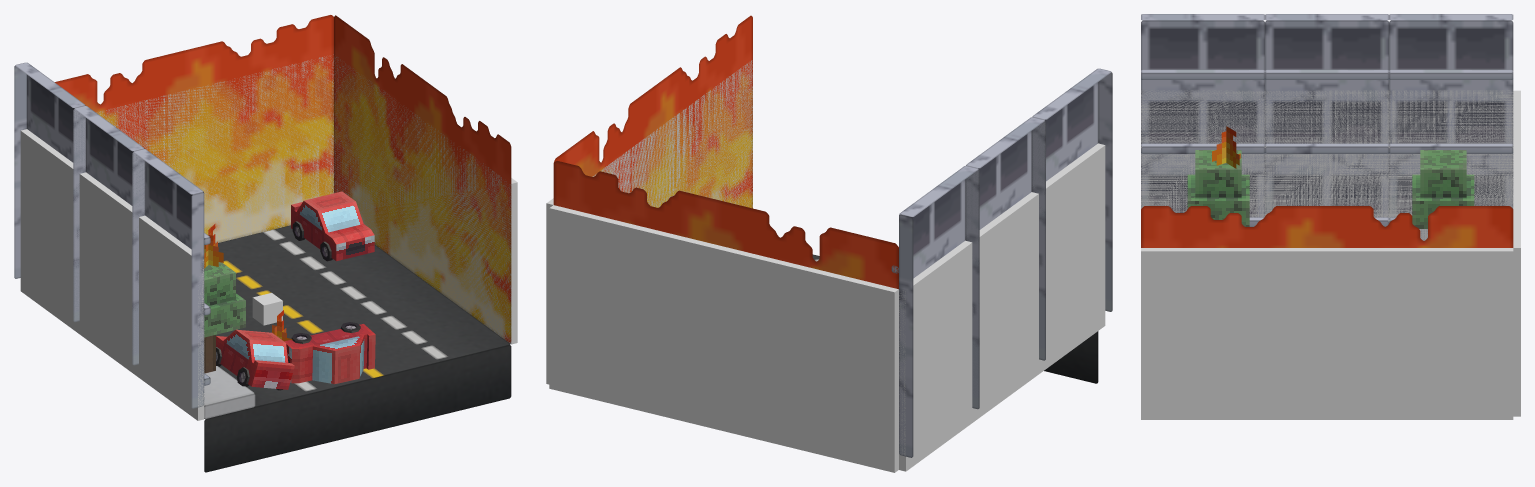
Rendered from cornertr.fbx.
3 renders of one model, left to right at view 1: azimuth 30°, elevation 25°; view 2: azimuth 150°, elevation 25°; view 3: azimuth 270°, elevation 25°, orthographic. The views are drawn at different scales.
Visible parts, largest first — view 1: floormain, cube_4, cube_3, cube_6, cube_7, cube_8, building_3, building, building_2, carmain_1, carmain_2, carmain (+2 smaller); view 2: cube_8, cube_6, cube_3, cube_4, cube_7, building, building_3, building_2, floormain; view 3: cube_7, cube_6, building_2, building, building_3, cube_3, tree, tree_1, builing-ledges_1, cube_8, builing-ledges, builing-ledges_2 (+1 smaller).
Boxes of the visible parts, box(x1,y1,x2,y2) form: floormain: box(204, 225, 511, 472); cube_4: box(55, 15, 333, 243); cube_3: box(334, 15, 511, 342); cube_6: box(20, 129, 204, 420); cube_7: box(334, 57, 517, 344); cube_8: box(96, 54, 333, 242); building_3: box(132, 149, 204, 408); building: box(14, 62, 85, 321); building_2: box(73, 105, 145, 365); carmain_1: box(284, 324, 375, 384); carmain_2: box(291, 191, 374, 261); carmain: box(216, 329, 294, 389); cube_8: box(549, 205, 898, 472); cube_6: box(899, 143, 1105, 471); cube_3: box(554, 15, 752, 208); cube_4: box(553, 161, 898, 289); cube_7: box(546, 60, 752, 384); building: box(899, 166, 979, 457); building_3: box(1031, 68, 1112, 360); building_2: box(965, 117, 1045, 408); floormain: box(812, 254, 1098, 383); cube_7: box(1141, 248, 1513, 419); cube_6: box(1141, 90, 1513, 240); building_2: box(1265, 14, 1388, 217); building: box(1389, 14, 1513, 240); building_3: box(1141, 14, 1264, 217); cube_3: box(1141, 206, 1513, 247); tree: box(1412, 150, 1474, 228); tree_1: box(1187, 150, 1249, 226); builing-ledges_1: box(1265, 69, 1388, 226); cube_8: box(1513, 90, 1520, 416); builing-ledges: box(1389, 69, 1513, 223); builing-ledges_2: box(1141, 69, 1264, 226).
Bounding box in the file's own units: 319 × 262 × 306.
6 materials, 6 textured.
